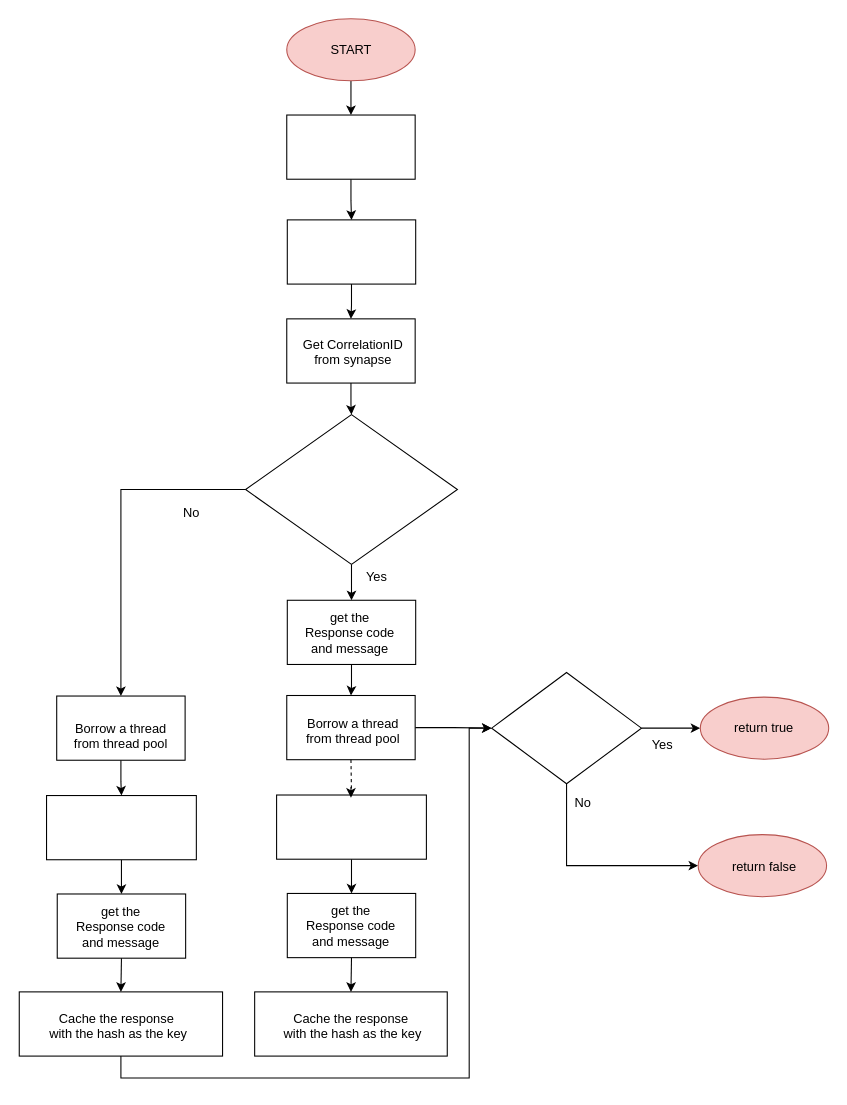
This 847x1105 diagram has some shape labels left out. The box of each missing label's shape, as (x1, y1, x2, y2) in pixels:
Extract metadata from client request: (286, 114, 415, 179)
Generate MD5 Hash for data: (286, 219, 416, 284)
Is ASE response available for hash in the cache: (244, 414, 457, 564)
Is response code = 200: (491, 671, 641, 784)
Non Blocking Sideband Call to ASE and release the thread: (276, 794, 426, 859)
Thread Blocking Sideband Call to ASE and release the thread: (45, 794, 196, 860)
